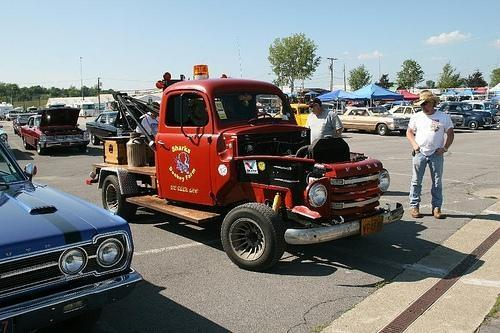car: (2, 133, 146, 328), (18, 106, 92, 156), (339, 105, 409, 135), (438, 102, 497, 130), (86, 111, 123, 146), (272, 104, 310, 127), (12, 112, 38, 136), (461, 100, 498, 116), (393, 106, 422, 126), (385, 102, 393, 108)
truck: (84, 64, 408, 271)
